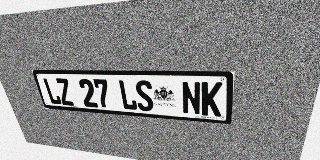2: (78, 79, 98, 108)
7: (92, 79, 112, 109)
K: (201, 82, 223, 117)
L: (118, 80, 138, 110), (42, 78, 62, 105)
N: (181, 81, 201, 115)
S: (134, 80, 154, 112)
Z: (55, 78, 75, 106)
